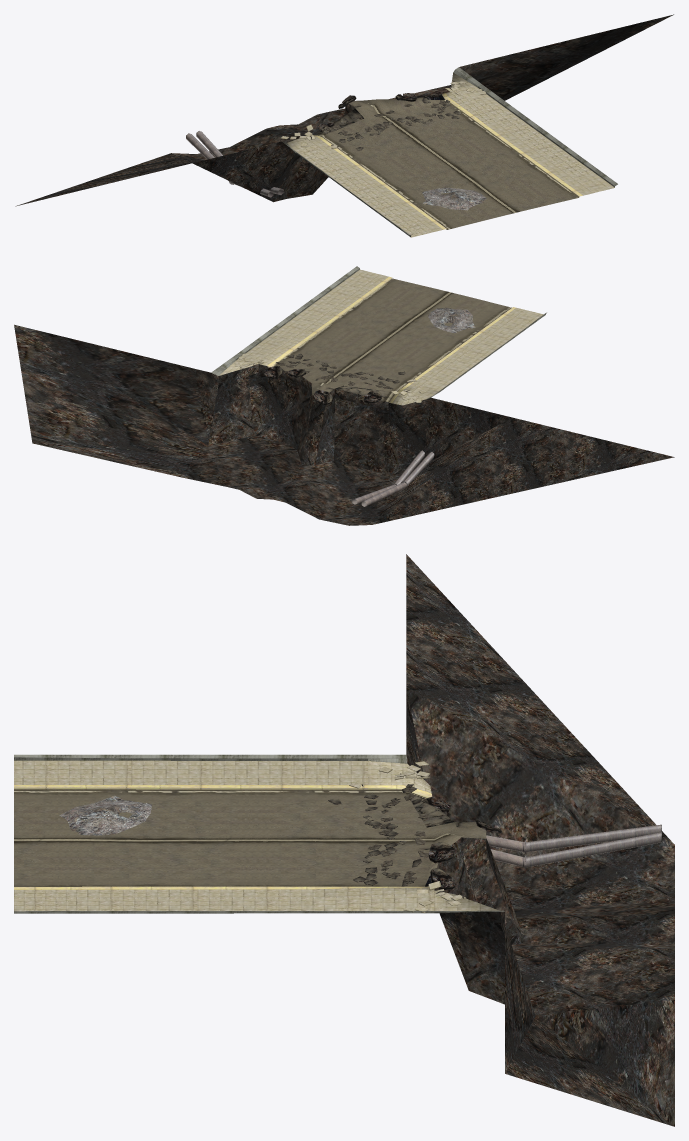
Rendered from Damaged_Road_Part_01.fbx.
3 renders of one model, top to bottom at view 1: azimuth 30°, elevation 25°; view 2: azimuth 150°, elevation 25°; view 3: azimuth 270°, elevation 25°, orthographic. The views are drawn at different scales.
Visible parts, largest first — view 1: Damaged_Road_Part_01; view 2: Damaged_Road_Part_01; view 3: Damaged_Road_Part_01.
Boxes of the visible parts, <box> form: Damaged_Road_Part_01: <box>15,14,673,237</box>; Damaged_Road_Part_01: <box>14,266,674,525</box>; Damaged_Road_Part_01: <box>14,554,674,1126</box>.
Size of the model in its own units: 6282 by 725 by 3378.
